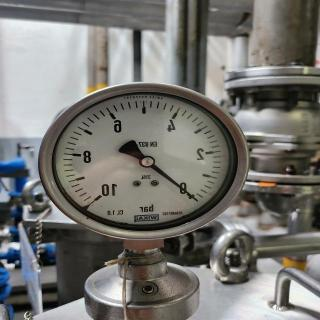gauge: (36, 81, 250, 241), (82, 183, 118, 210), (176, 180, 202, 211), (141, 157, 153, 167), (194, 198, 201, 204)
